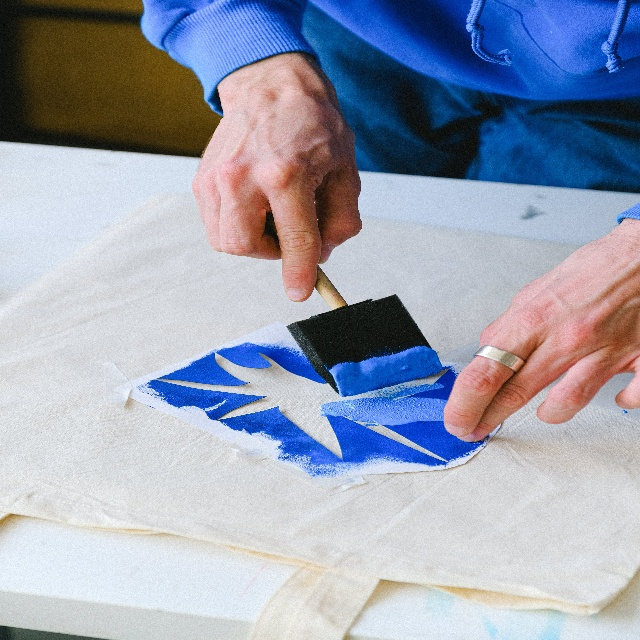Sin_guantes: (440, 217, 640, 443), (193, 63, 365, 304)
